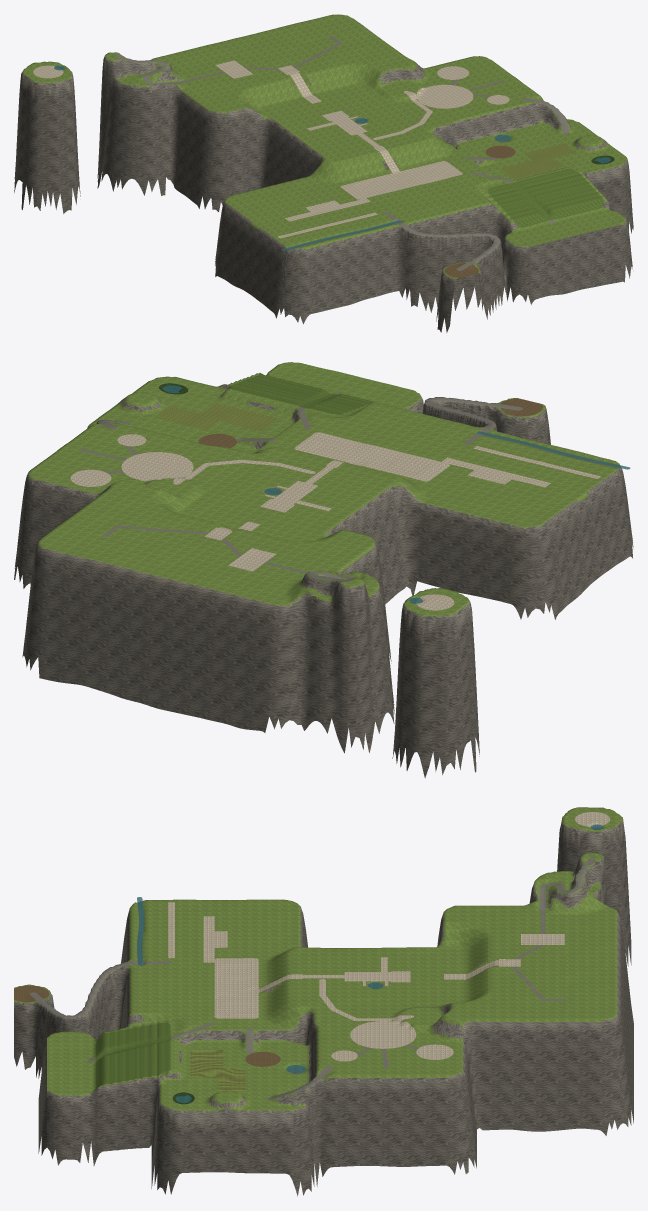
Rendered from terrain.glb.
3 renders of one model, top to bottom at view 1: azimuth 30°, elevation 25°; view 2: azimuth 150°, elevation 25°; view 3: azimuth 270°, elevation 25°, orthographic. The views are drawn at different scales.
Parts seen in each view (by area): view 1: SectGround_1_1-col, SectGround_2_5-col, SectGround_0_1-col, SectGround_2_2-col, SectGround_1_5-col, SectGround_3_5-col, SectGround_4_3-col, SectGround_3_2-col, SectGround_1_2-col, SectGround_2_3-col, SectGround_3_3-col, SectGround_1_4-col (+21 smaller); view 2: SectGround_2_0-col, SectGround_3_0-col, SectGround_1_0-col, SectGround_1_3-col, SectGround_0_0-col, SectGround_2_3-col, SectGround_1_4-col, SectGround_4_2-col, SectGround_1_1-col, SectGround_4_4-col, SectGround_3_1-col, SectGround_2_1-col (+21 smaller); view 3: SectGround_4_1-col, SectGround_4_5-col, SectGround_5_3-col, SectGround_5_4-col, SectGround_5_2-col, SectGround_4_2-col, SectGround_3_3-col, SectGround_3_4-col, SectGround_4_4-col, SectGround_2_1-col, SectGround_3_1-col, SectGround_2_4-col (+18 smaller).
Boxes of the visible parts, x1,y1,x2,y2 form: SectGround_1_1-col: [97, 53, 216, 196]; SectGround_2_5-col: [358, 204, 486, 312]; SectGround_0_1-col: [19, 66, 80, 213]; SectGround_2_2-col: [217, 79, 344, 192]; SectGround_1_5-col: [276, 224, 374, 324]; SectGround_3_5-col: [440, 188, 567, 307]; SectGround_4_3-col: [427, 83, 555, 156]; SectGround_3_2-col: [298, 57, 426, 123]; SectGround_1_2-col: [186, 97, 241, 211]; SectGround_2_3-col: [285, 123, 392, 189]; SectGround_3_3-col: [346, 103, 473, 166]; SectGround_1_4-col: [229, 190, 357, 256]; SectGround_2_0-col: [151, 569, 273, 730]; SectGround_3_0-col: [47, 544, 169, 706]; SectGround_1_0-col: [255, 582, 364, 753]; SectGround_1_3-col: [430, 493, 557, 619]; SectGround_0_0-col: [392, 599, 466, 778]; SectGround_2_3-col: [290, 461, 453, 603]; SectGround_1_4-col: [454, 449, 617, 534]; SectGround_4_2-col: [28, 446, 186, 583]; SectGround_1_1-col: [274, 550, 394, 752]; SectGround_4_4-col: [143, 383, 305, 451]; SectGround_3_1-col: [67, 499, 226, 569]; SectGround_2_1-col: [171, 528, 333, 594]; SectGround_4_1-col: [488, 1009, 598, 1131]; SectGround_4_5-col: [47, 1042, 157, 1177]; SectGround_5_3-col: [267, 1069, 377, 1196]; SectGround_5_4-col: [157, 1090, 267, 1194]; SectGround_5_2-col: [377, 1069, 476, 1174]; SectGround_4_2-col: [377, 1009, 487, 1159]; SectGround_3_3-col: [267, 976, 377, 1045]; SectGround_3_4-col: [157, 987, 267, 1045]; SectGround_4_4-col: [157, 1039, 267, 1104]; SectGround_2_1-col: [488, 916, 598, 966]; SectGround_3_1-col: [488, 962, 598, 1009]; SectGround_2_4-col: [157, 944, 267, 990].
Bounding box in the file's own units: 532 × 153 × 562.
Materials: 11 (11 with a texture image).
